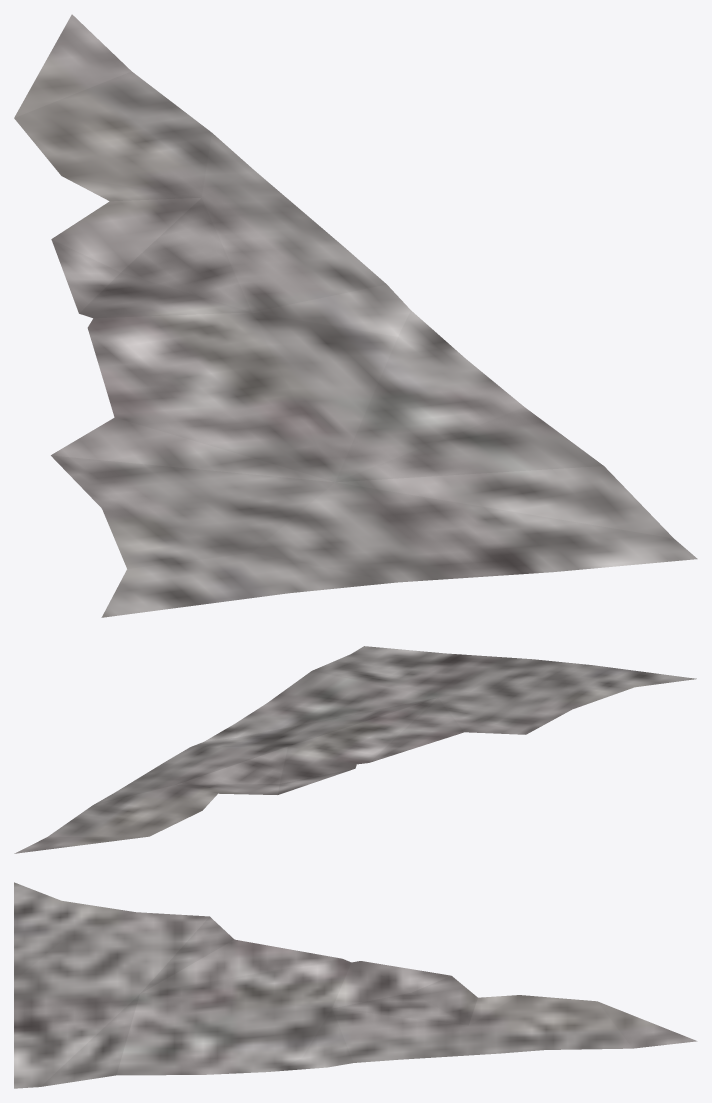
3 renders of one model, top to bottom at view 1: azimuth 30°, elevation 25°; view 2: azimuth 150°, elevation 25°; view 3: azimuth 270°, elevation 25°, orthographic. The views are drawn at different scales.
Bounding box in the file's own units: 0.1683 × 0.0234 × 0.3058.
Materials: 1 (1 with a texture image).
